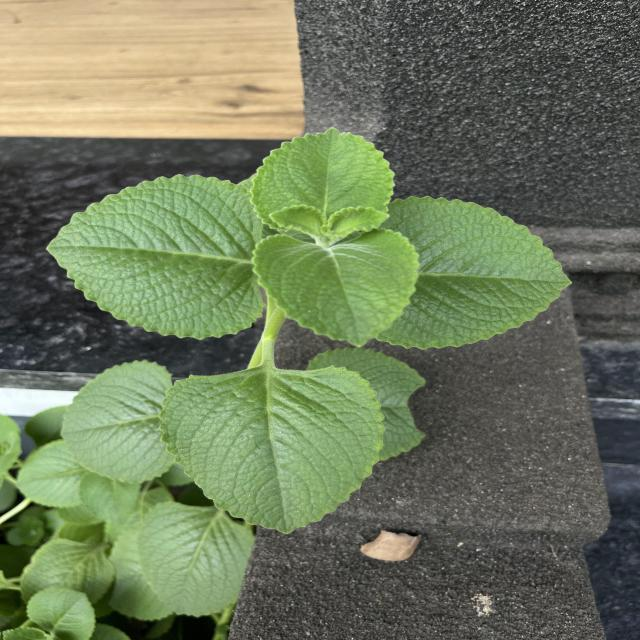Plectranthus barbatus: (158, 364, 387, 536), (43, 171, 267, 341), (388, 194, 576, 352), (251, 231, 421, 349), (248, 125, 396, 234), (61, 358, 180, 486), (135, 500, 254, 620), (16, 440, 85, 503), (26, 585, 98, 640)
